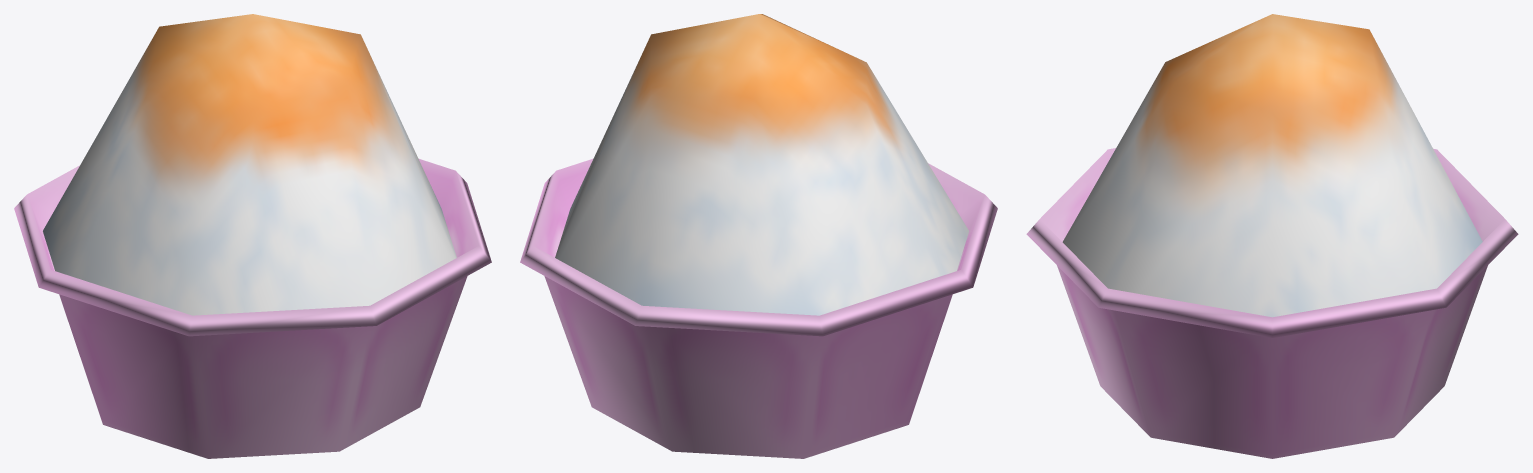
File: jsf_ShavedIce_02h.fbx
3 views of the same model, side by side, from view 1: azimuth 30°, elevation 25°; view 2: azimuth 150°, elevation 25°; view 3: azimuth 270°, elevation 25° (orthographic).
Visible parts, largest first — view 1: jsf_ShavedIce_02h; view 2: jsf_ShavedIce_02h; view 3: jsf_ShavedIce_02h.
Boxes of the visible parts, x1,y1,x2,y2 form: jsf_ShavedIce_02h: (14,14,491,458); jsf_ShavedIce_02h: (520,14,997,458); jsf_ShavedIce_02h: (1026,14,1518,458).
Bounding box in the file's own units: 12 × 10.01 × 12.
